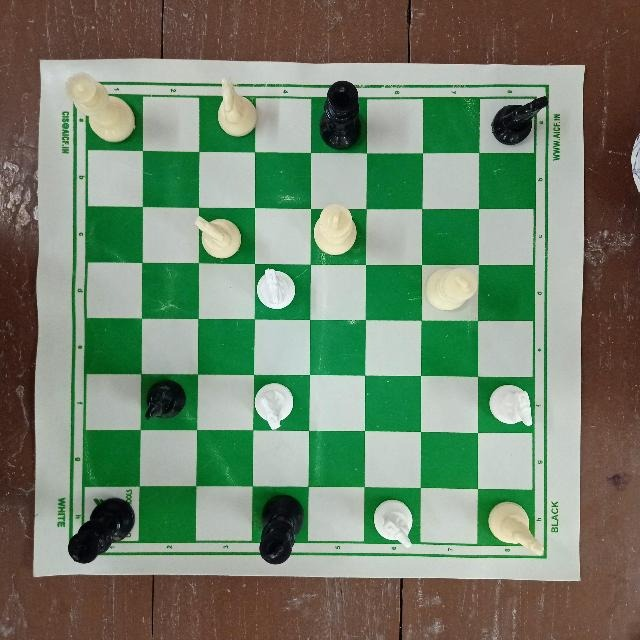black-king: (63, 495, 137, 566), (317, 76, 365, 152), (255, 493, 303, 567)
black-knight: (490, 92, 546, 153), (137, 377, 188, 429)
white-king: (309, 197, 361, 260), (423, 264, 477, 312)
white-knight: (208, 71, 266, 140), (483, 496, 546, 558), (485, 380, 541, 432), (368, 494, 418, 552), (190, 209, 243, 261), (252, 377, 299, 432), (253, 265, 301, 315)
white-queen: (63, 69, 138, 147)
